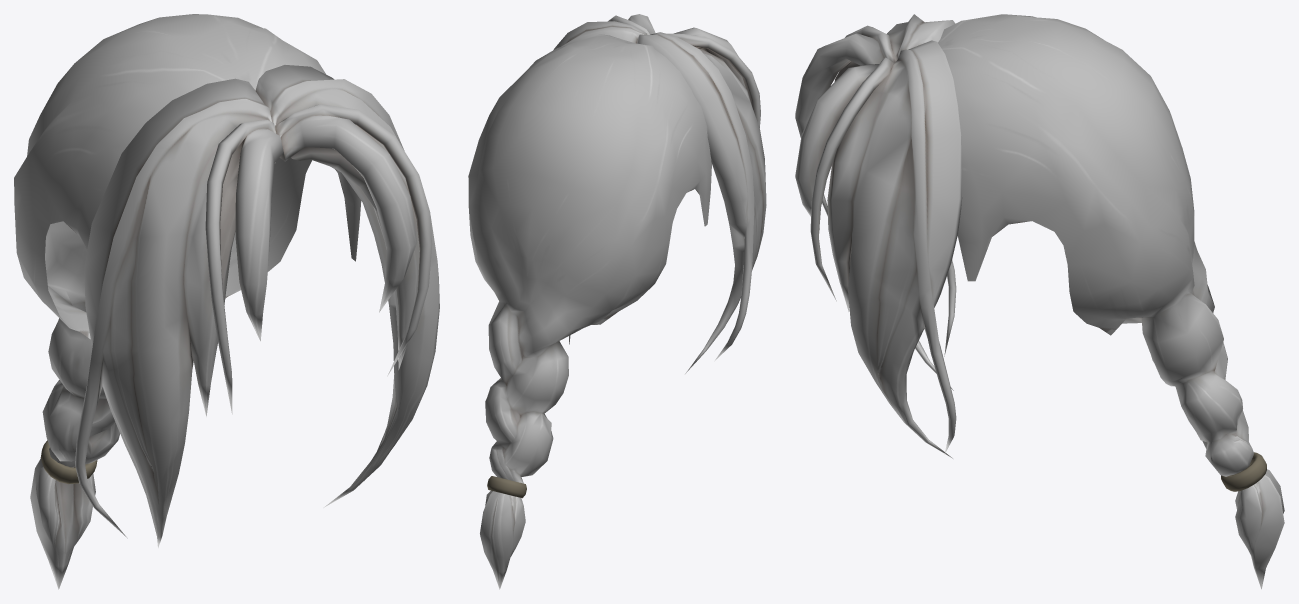
Rendered from hair1.fbx.
The picture shows the model from 3 angles, left to right: view 1: azimuth 30°, elevation 25°; view 2: azimuth 150°, elevation 25°; view 3: azimuth 270°, elevation 25°; orthographic projection. The views are drawn at different scales.
Parts seen in each view (by area): view 1: hair1; view 2: hair1; view 3: hair1.
Boxes of the visible parts, left/top/right/bottom form: hair1: left=14, top=14, right=439, bottom=589; hair1: left=468, top=14, right=766, bottom=589; hair1: left=795, top=14, right=1284, bottom=589.
Size of the model in its own units: 18.43 by 34.52 by 27.3.
Materials: 1 (1 with a texture image).
